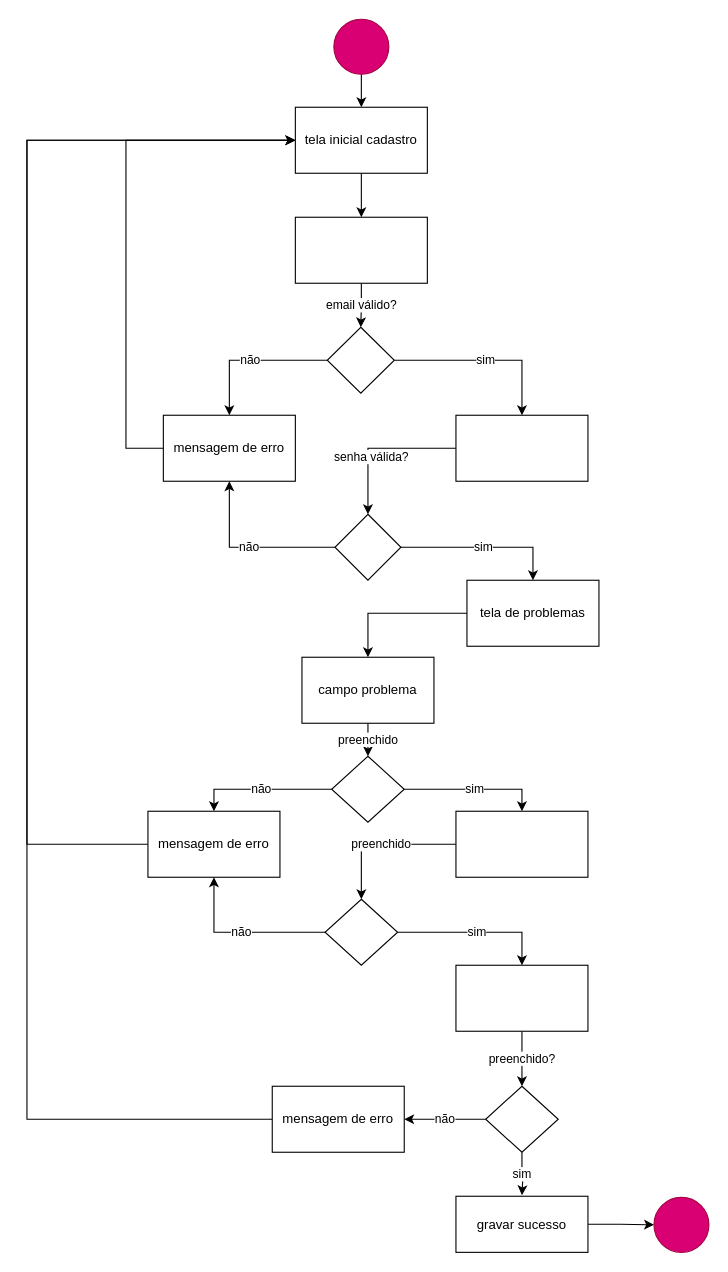
This 728x1272 diagram has some shape labels left out. Each missing label, with the centre of its shape:
inserir email: the point at 360,249
inserir senha: the point at 521,447
numlab e pc: the point at 521,843
obs: the point at 521,997
